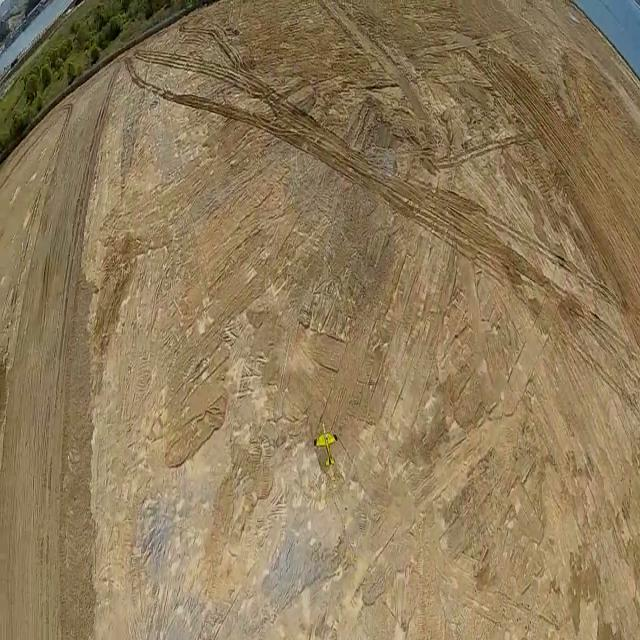iha: (297, 425, 343, 477)
